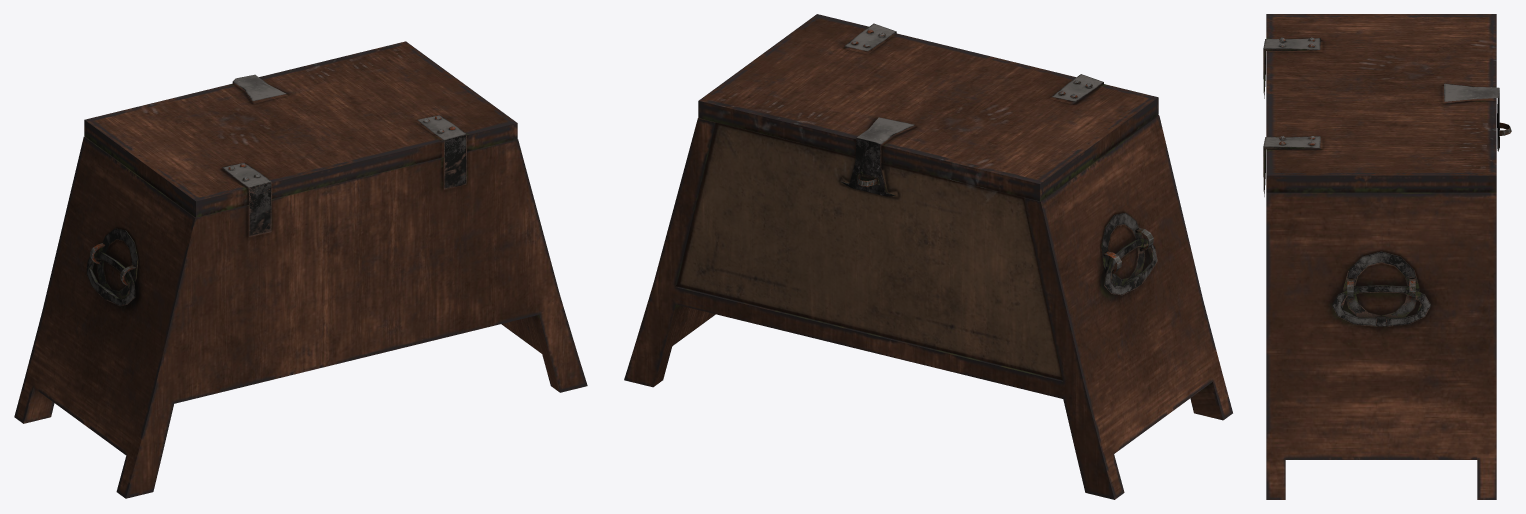
File: Kiste_LOD2.dae
3 views of the same model, side by side, from view 1: azimuth 30°, elevation 25°; view 2: azimuth 150°, elevation 25°; view 3: azimuth 270°, elevation 25° (orthographic). The views are drawn at different scales.
Parts seen in each view (by area): view 1: Kiste_LOD2; view 2: Kiste_LOD2; view 3: Kiste_LOD2.
Boxes of the visible parts, x1,y1,x2,y2 form: Kiste_LOD2: (14,41,587,498); Kiste_LOD2: (624,14,1232,499); Kiste_LOD2: (1263,14,1511,499).
Size of the model in its own units: 0.9 by 0.407 by 0.5306.
Materials: 3 (3 with a texture image).
